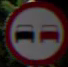No overtake: (4, 2, 63, 59)
